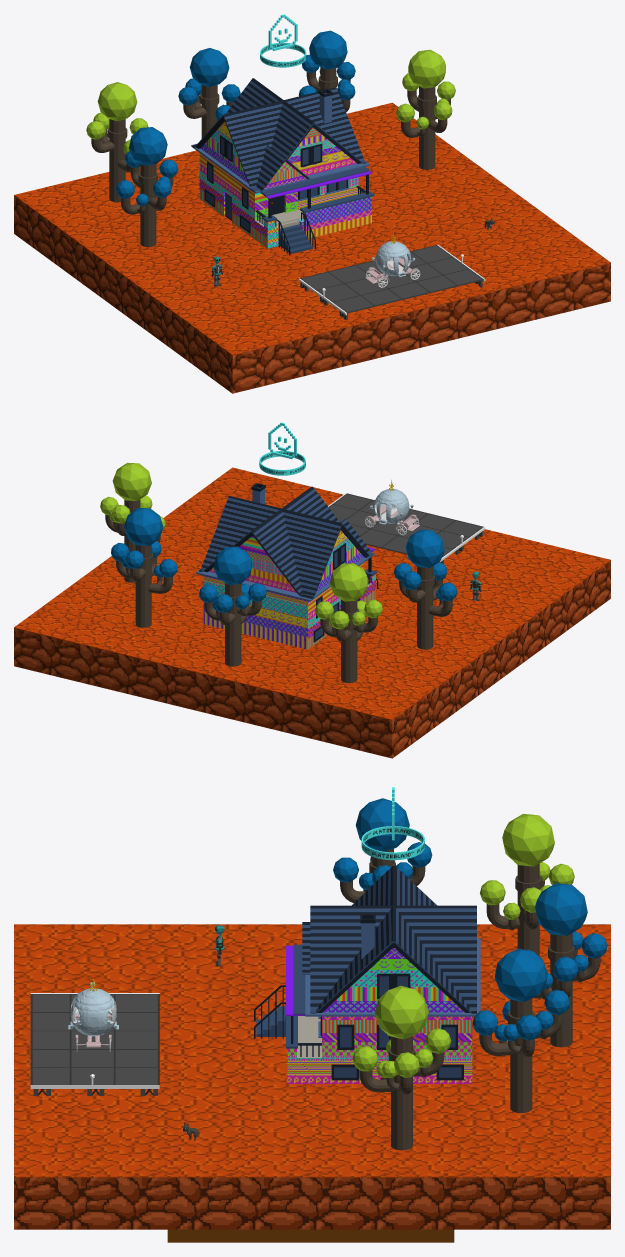
3 renders of one model, top to bottom at view 1: azimuth 30°, elevation 25°; view 2: azimuth 150°, elevation 25°; view 3: azimuth 270°, elevation 25°, orthographic. The views are drawn at different scales.
Parts seen in each view (by area): view 1: Cube.001, Cube.676, VEHICLES_FANTASY_CARRIAGE, TYPE_PREMIUM; view 2: Cube.001, Cube.676, VEHICLES_FANTASY_CARRIAGE, TYPE_PREMIUM; view 3: Cube.001, Cube.676, UNDERGROUND_ART_PIECE_VAN_GOGH, VEHICLES_FANTASY_CARRIAGE, TYPE_PREMIUM.
Boxes of the visible parts, x1=… form: Cube.001: x1=14, y1=30, x2=610, y2=393; Cube.676: x1=191, y1=78, x2=374, y2=255; VEHICLES_FANTASY_CARRIAGE: x1=365, y1=232, x2=420, y2=287; TYPE_PREMIUM: x1=260, y1=14, x2=306, y2=67; Cube.001: x1=14, y1=462, x2=610, y2=758; Cube.676: x1=196, y1=483, x2=378, y2=649; VEHICLES_FANTASY_CARRIAGE: x1=364, y1=480, x2=419, y2=535; TYPE_PREMIUM: x1=259, y1=422, x2=305, y2=475; Cube.001: x1=14, y1=798, x2=610, y2=1229; Cube.676: x1=254, y1=865, x2=480, y2=1083; UNDERGROUND_ART_PIECE_VAN_GOGH: x1=167, y1=1229, x2=454, y2=1242; VEHICLES_FANTASY_CARRIAGE: x1=68, y1=976, x2=118, y2=1051; TYPE_PREMIUM: x1=361, y1=787, x2=424, y2=860.
Size of the model in its own units: 4000 by 2536 by 4000.
37 materials, 10 textured.
